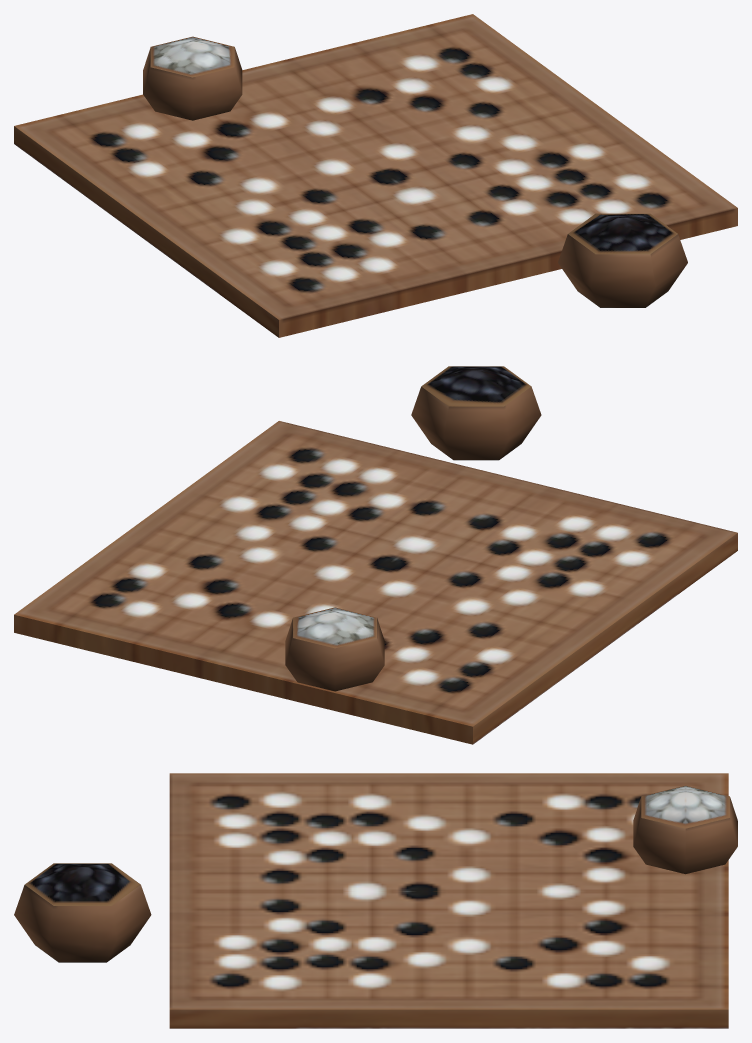
Rendered from szc_object_qipan.FBX.
The picture shows the model from 3 angles, top to bottom: view 1: azimuth 30°, elevation 25°; view 2: azimuth 150°, elevation 25°; view 3: azimuth 270°, elevation 25°; orthographic projection. The views are drawn at different scales.
Parts seen in each view (by area): view 1: szc_object_qipan; view 2: szc_object_qipan; view 3: szc_object_qipan.
Part boxes in pixels (left/top/right/bottom): szc_object_qipan: left=14, top=14, right=737, bottom=337; szc_object_qipan: left=14, top=366, right=737, bottom=744; szc_object_qipan: left=14, top=773, right=737, bottom=1028.
Bounding box in the file's own units: 55.98 × 8.96 × 72.5.
